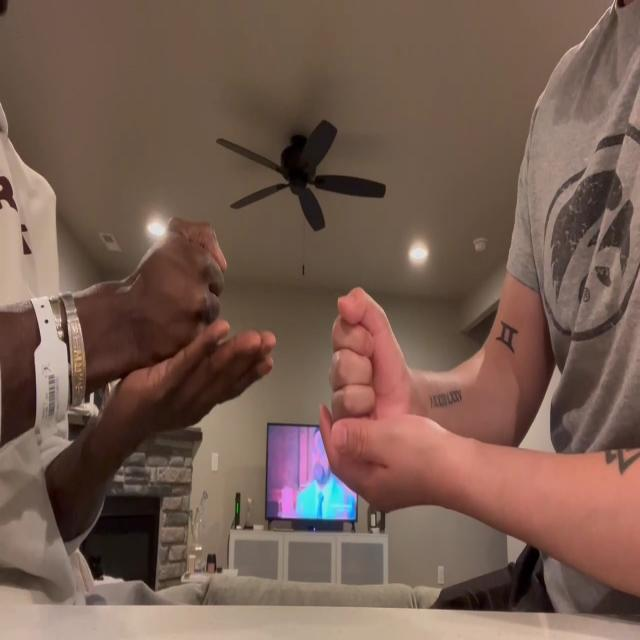fist: (331, 286, 408, 424)
